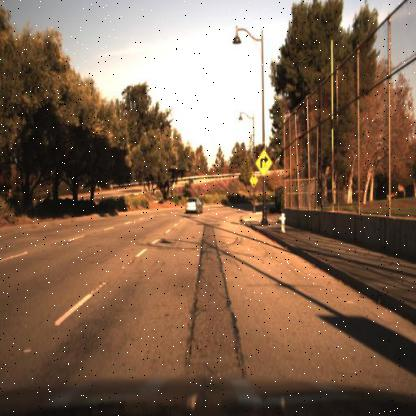car: (185, 193, 204, 216)
